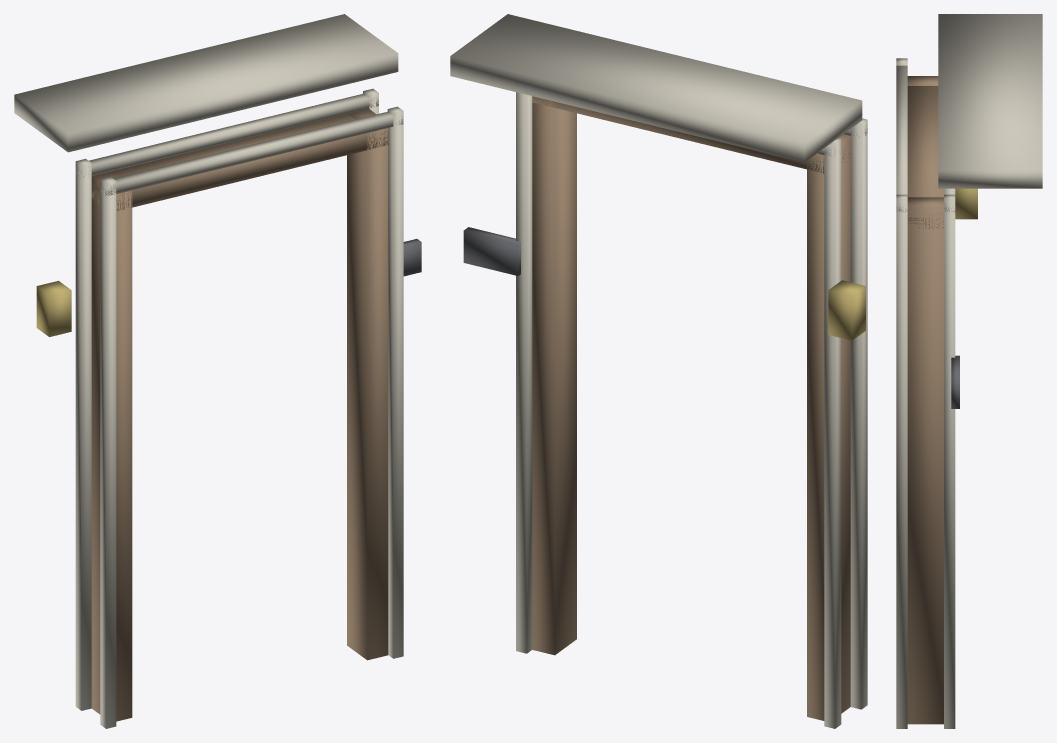
File: doorway_motel_w106_h220_d16.glb
3 renders of one model, left to right at view 1: azimuth 30°, elevation 25°; view 2: azimuth 150°, elevation 25°; view 3: azimuth 270°, elevation 25°, orthographic. The views are drawn at different scales.
Visible parts, largest first — view 1: world; view 2: world; view 3: world.
Boxes of the visible parts, x1,y1,x2,y2 form: world: (14,14,421,728); world: (450,14,867,728); world: (896,14,1042,728).
Bounding box in the file's own units: 1.68 × 2.52 × 0.5889.
